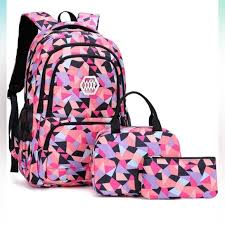bag: (24, 19, 126, 191)
